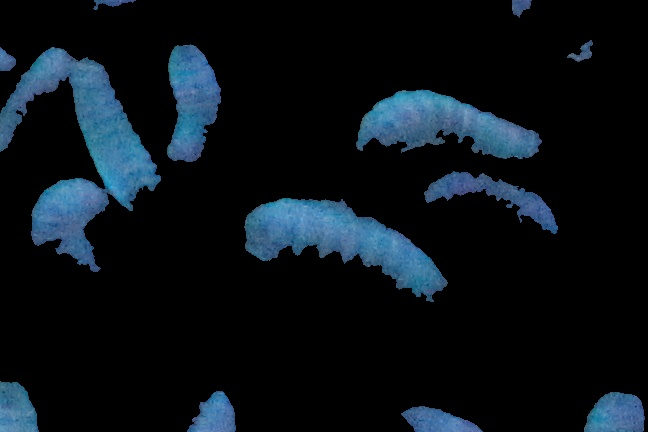larvae: (241, 200, 449, 299), (355, 81, 541, 164), (71, 61, 160, 208), (424, 167, 562, 241), (1, 45, 81, 153), (31, 179, 105, 277), (169, 46, 222, 161)
